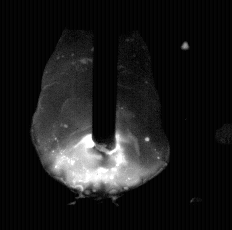arame: (92, 0, 118, 150)
poca: (30, 0, 165, 230)
